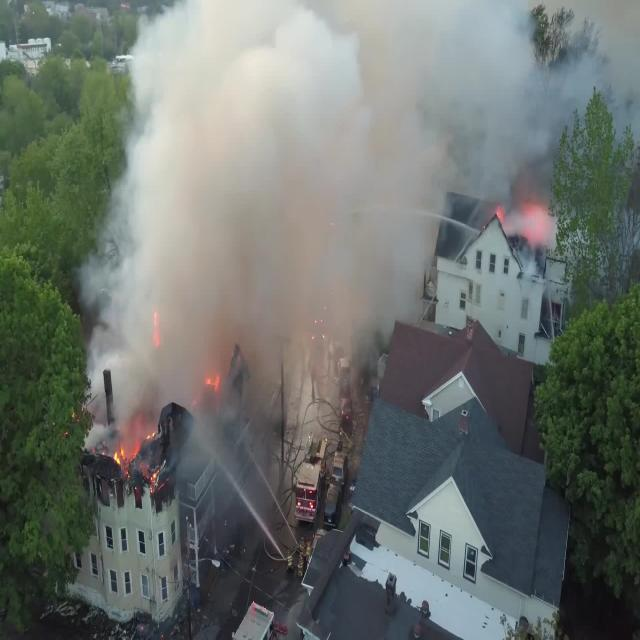Fire: (101, 419, 158, 478), (197, 364, 226, 408)
Smoke: (64, 1, 630, 478)
